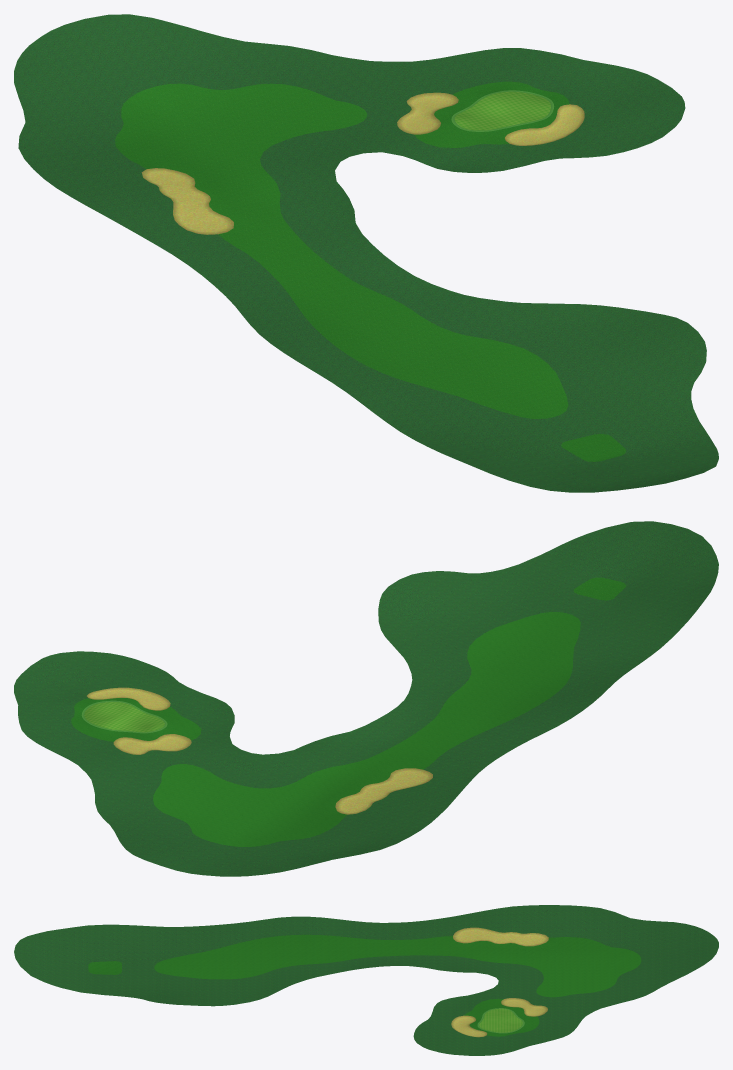
Rendered from glf_map_fc12__glf_map_fc12.glb.
The picture shows the model from 3 angles, top to bottom: view 1: azimuth 30°, elevation 25°; view 2: azimuth 150°, elevation 25°; view 3: azimuth 270°, elevation 25°; orthographic projection. The views are drawn at different scales.
Visible parts, largest first — view 1: polygon7, polygon4, polygon0, polygon6; view 2: polygon7, polygon4, polygon0, polygon6; view 3: polygon7, polygon4, polygon0, polygon6.
Boxes of the visible parts, x1,y1,x2,y2 form: polygon7: (14,14,718,492); polygon4: (115,81,626,461); polygon0: (141,92,584,234); polygon6: (454,91,550,130); polygon7: (14,521,718,876); polygon4: (71,577,625,846); polygon0: (87,687,432,814); polygon6: (84,702,164,732); polygon7: (14,905,718,1055); polygon4: (88,934,641,1036); polygon0: (451,927,548,1037); polygon6: (479,1008,522,1032).
Size of the model in its own units: 2042 by 149 by 3861.
Materials: 5 (5 with a texture image).
